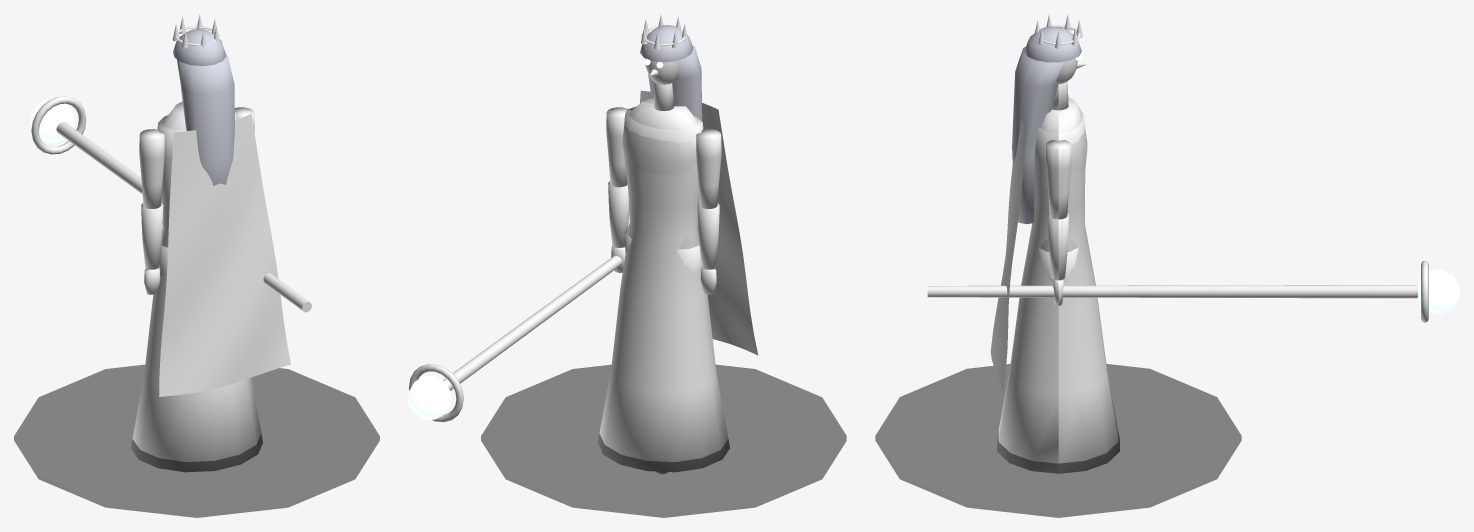
The model's file is queen.glb.
The picture shows the model from 3 angles, left to right: view 1: azimuth 30°, elevation 25°; view 2: azimuth 150°, elevation 25°; view 3: azimuth 270°, elevation 25°; orthographic projection.
Parts seen in each view (by area): view 1: _MeshInstance3D_1100, _MeshInstance3D_1138, _MeshInstance3D_1118, _MeshInstance3D_1136, _MeshInstance3D_1152, _MeshInstance3D_1146, _MeshInstance3D_1135, _MeshInstance3D_1148, _MeshInstance3D_1154, _MeshInstance3D_1153, _MeshInstance3D_1117; view 2: _MeshInstance3D_1100, _MeshInstance3D_1118, _MeshInstance3D_1138, _MeshInstance3D_1117, _MeshInstance3D_1152, _MeshInstance3D_1146, _MeshInstance3D_1136, _MeshInstance3D_1153, _MeshInstance3D_1140, _MeshInstance3D_1135, _MeshInstance3D_1148, _MeshInstance3D_1142 (+3 smaller); view 3: _MeshInstance3D_1100, _MeshInstance3D_1118, _MeshInstance3D_1152, _MeshInstance3D_1136, _MeshInstance3D_1138, _MeshInstance3D_1140, _MeshInstance3D_1117, _MeshInstance3D_1135, _MeshInstance3D_1153, _MeshInstance3D_1142.
Part boxes in pixels (x1,y1,x2,y2): _MeshInstance3D_1100: [14, 364, 379, 517]; _MeshInstance3D_1138: [159, 113, 290, 396]; _MeshInstance3D_1118: [131, 113, 262, 472]; _MeshInstance3D_1136: [177, 51, 234, 185]; _MeshInstance3D_1152: [56, 122, 311, 312]; _MeshInstance3D_1146: [139, 129, 164, 208]; _MeshInstance3D_1135: [173, 29, 225, 66]; _MeshInstance3D_1148: [141, 203, 163, 269]; _MeshInstance3D_1154: [31, 96, 86, 154]; _MeshInstance3D_1153: [30, 98, 73, 142]; _MeshInstance3D_1117: [161, 101, 186, 247]; _MeshInstance3D_1100: [481, 364, 846, 517]; _MeshInstance3D_1118: [597, 106, 729, 472]; _MeshInstance3D_1138: [640, 90, 758, 355]; _MeshInstance3D_1117: [622, 98, 699, 249]; _MeshInstance3D_1152: [443, 255, 622, 390]; _MeshInstance3D_1146: [696, 129, 721, 208]; _MeshInstance3D_1136: [648, 45, 702, 121]; _MeshInstance3D_1153: [408, 375, 451, 419]; _MeshInstance3D_1140: [606, 107, 628, 187]; _MeshInstance3D_1135: [640, 25, 692, 62]; _MeshInstance3D_1148: [697, 203, 719, 269]; _MeshInstance3D_1142: [608, 181, 629, 247]; _MeshInstance3D_1100: [875, 364, 1241, 517]; _MeshInstance3D_1118: [997, 107, 1119, 473]; _MeshInstance3D_1152: [927, 285, 1417, 298]; _MeshInstance3D_1136: [1012, 46, 1064, 223]; _MeshInstance3D_1138: [990, 120, 1026, 391]; _MeshInstance3D_1140: [1045, 140, 1071, 219]; _MeshInstance3D_1117: [1040, 97, 1087, 252]; _MeshInstance3D_1135: [1024, 26, 1081, 62]; _MeshInstance3D_1153: [1417, 269, 1459, 313]; _MeshInstance3D_1142: [1048, 213, 1068, 280].
Size of the model in its own units: 1.79 by 2.33 by 2.86.
